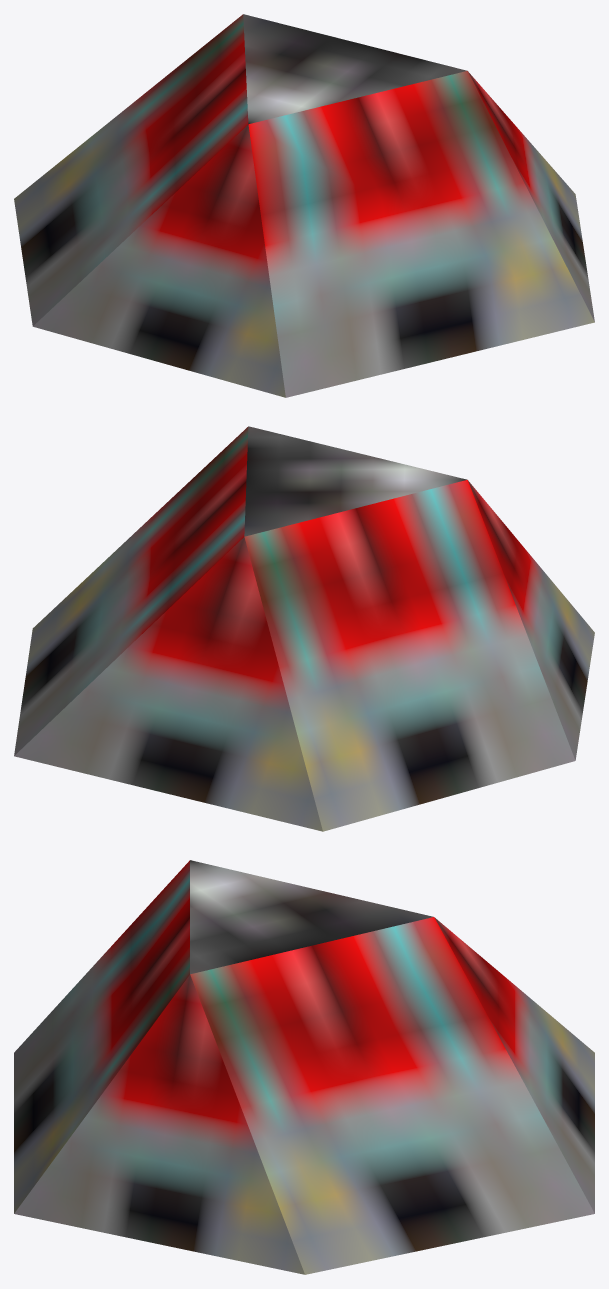
3 views of the same model, one above another, from view 1: azimuth 30°, elevation 25°; view 2: azimuth 150°, elevation 25°; view 3: azimuth 270°, elevation 25° (orthographic). The views are drawn at different scales.
Visible parts, largest first — view 1: root; view 2: root; view 3: root.
Part boxes in pixels (x1,y1,x2,y2): root: (14, 14, 594, 397); root: (14, 426, 594, 831); root: (14, 860, 594, 1274).
Bounding box in the file's own units: 0.9434 × 0.3359 × 0.8184.
1 material, 1 textured.
